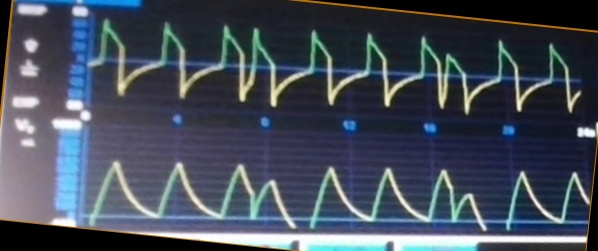Double_Triggering Flow: (92, 21, 581, 115)
Double_Triggering Volume: (90, 155, 584, 229)
